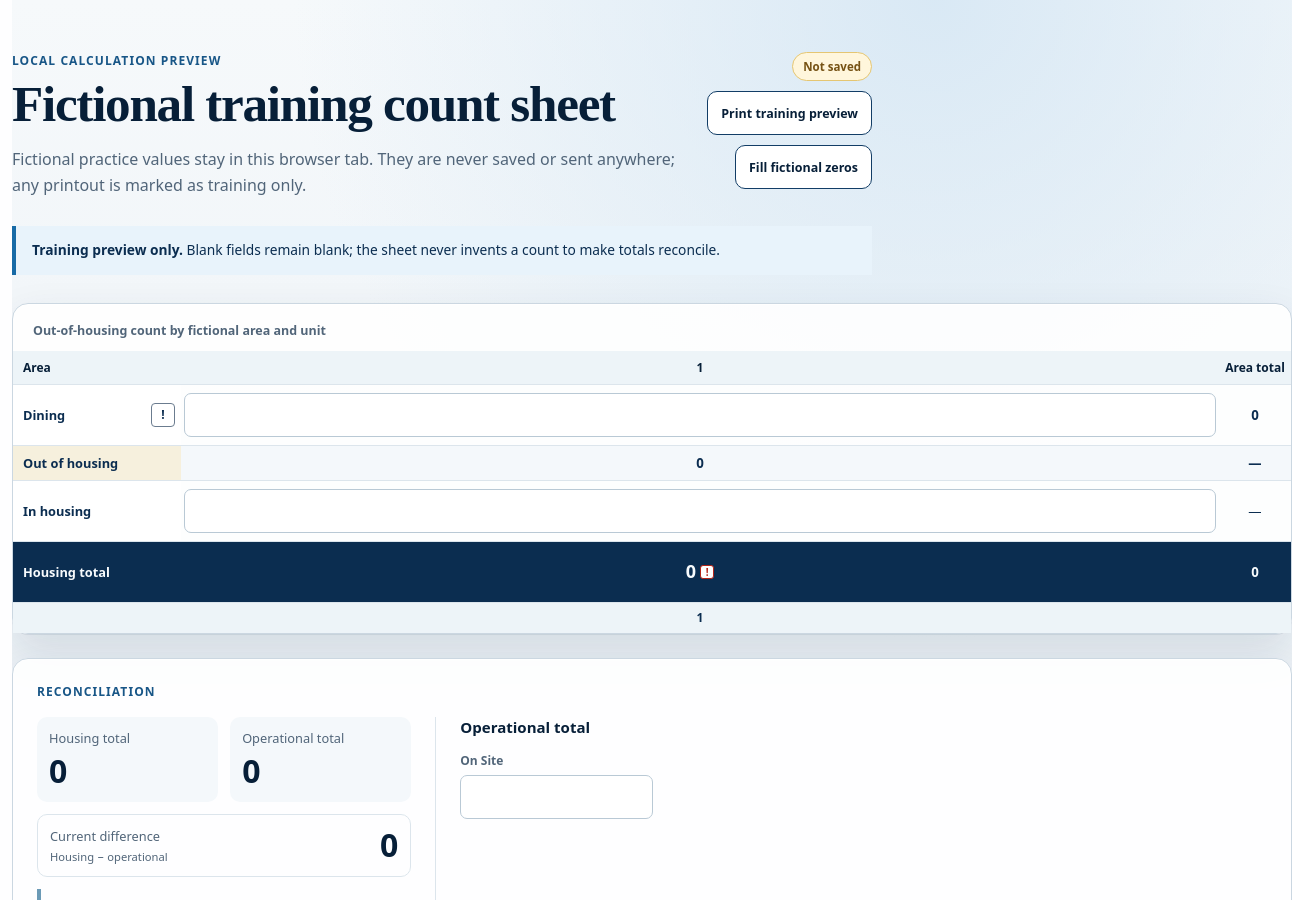
Scenario: CountSheetPreview › fills an explicit fictional zero example for status-announcement practice
This screenshot has width=1292, height=900.
Click the button "Fill fictional zeros".
click(804, 167)  # box [735, 145, 872, 189]
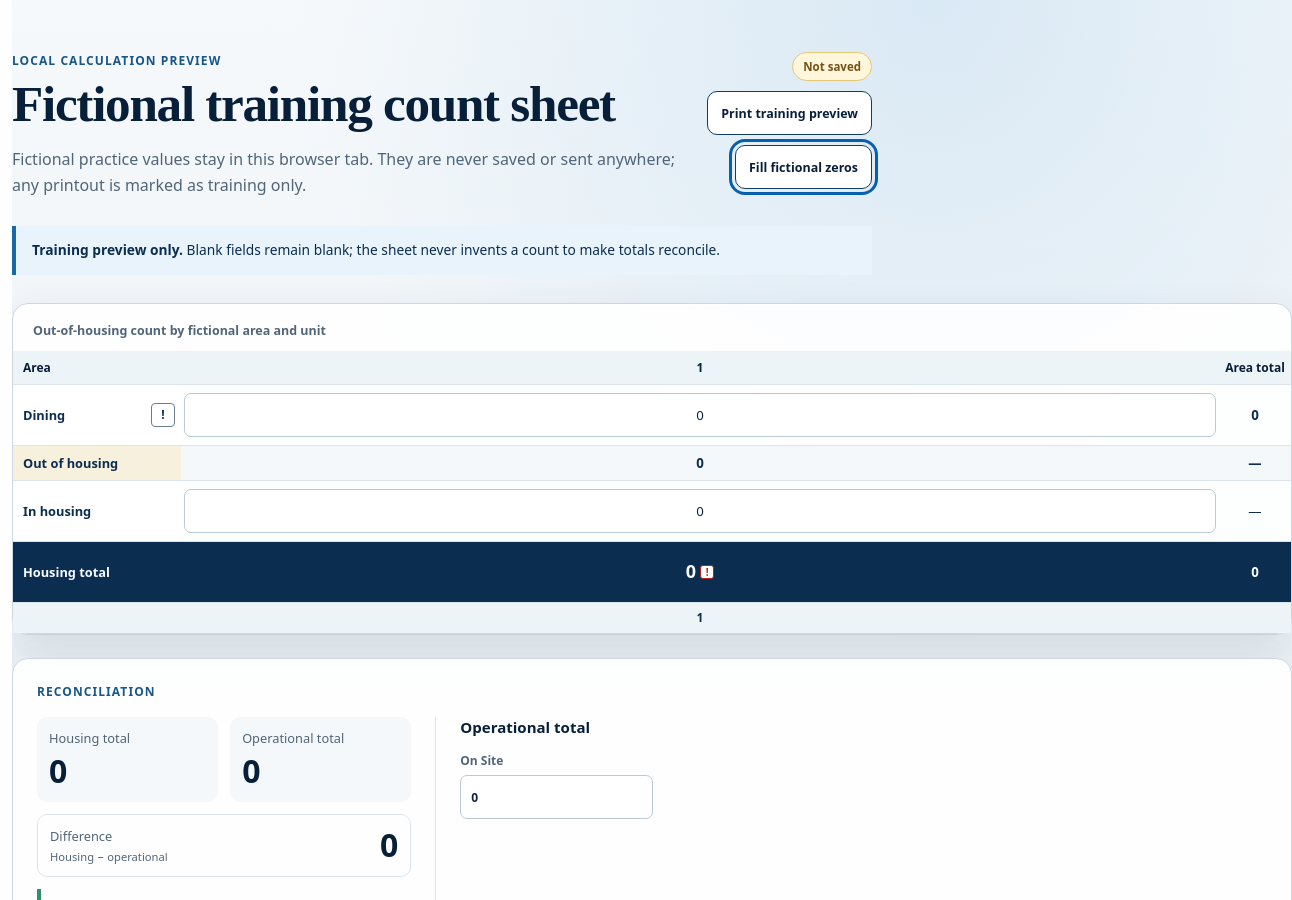
Result: the field named "Dining, 1" holds "0" at [184, 393, 1216, 437]
Result: the field named "In housing, 1" holds "0" at [184, 489, 1216, 533]
Result: the field named "Operational total, on site" holds "0" at [460, 775, 653, 819]
